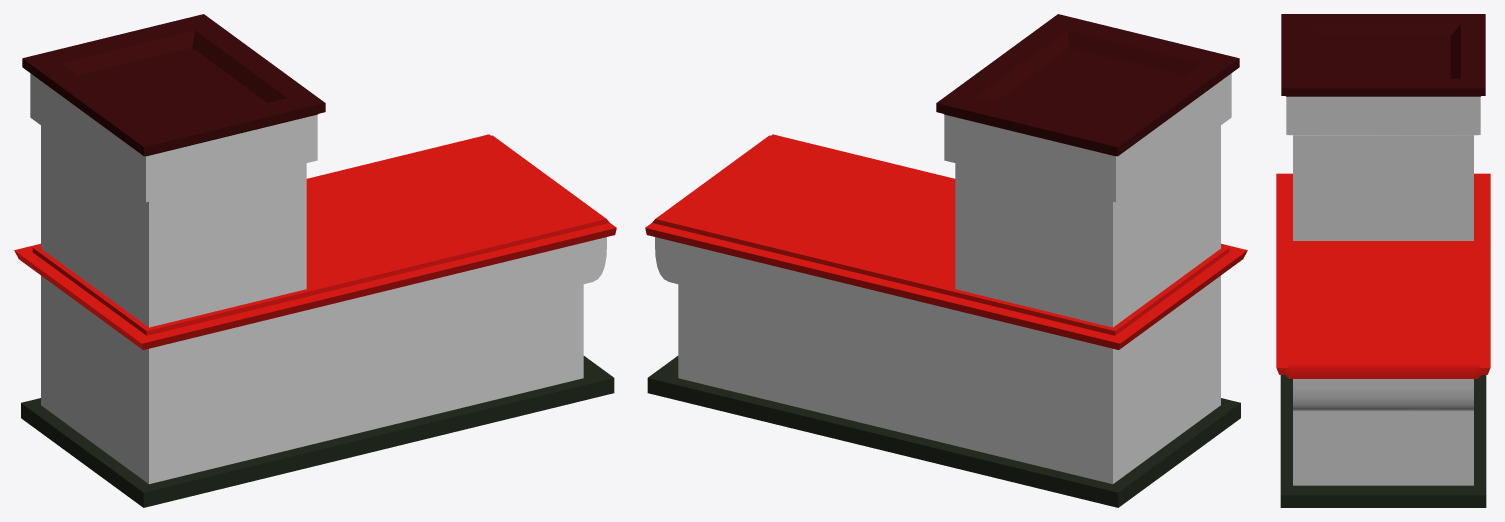
File: Edificio4_x2.FBX
The picture shows the model from 3 angles, left to right: view 1: azimuth 30°, elevation 25°; view 2: azimuth 150°, elevation 25°; view 3: azimuth 270°, elevation 25°; orthographic projection. The views are drawn at different scales.
Visible parts, largest first — view 1: Edificio2_x2; view 2: Edificio2_x2; view 3: Edificio2_x2.
Boxes of the visible parts, box(x1,y1,x2,y2) form: Edificio2_x2: box(14, 14, 616, 507); Edificio2_x2: box(645, 14, 1247, 507); Edificio2_x2: box(1276, 14, 1490, 507).
Size of the model in its own units: 716 by 519 by 333.
